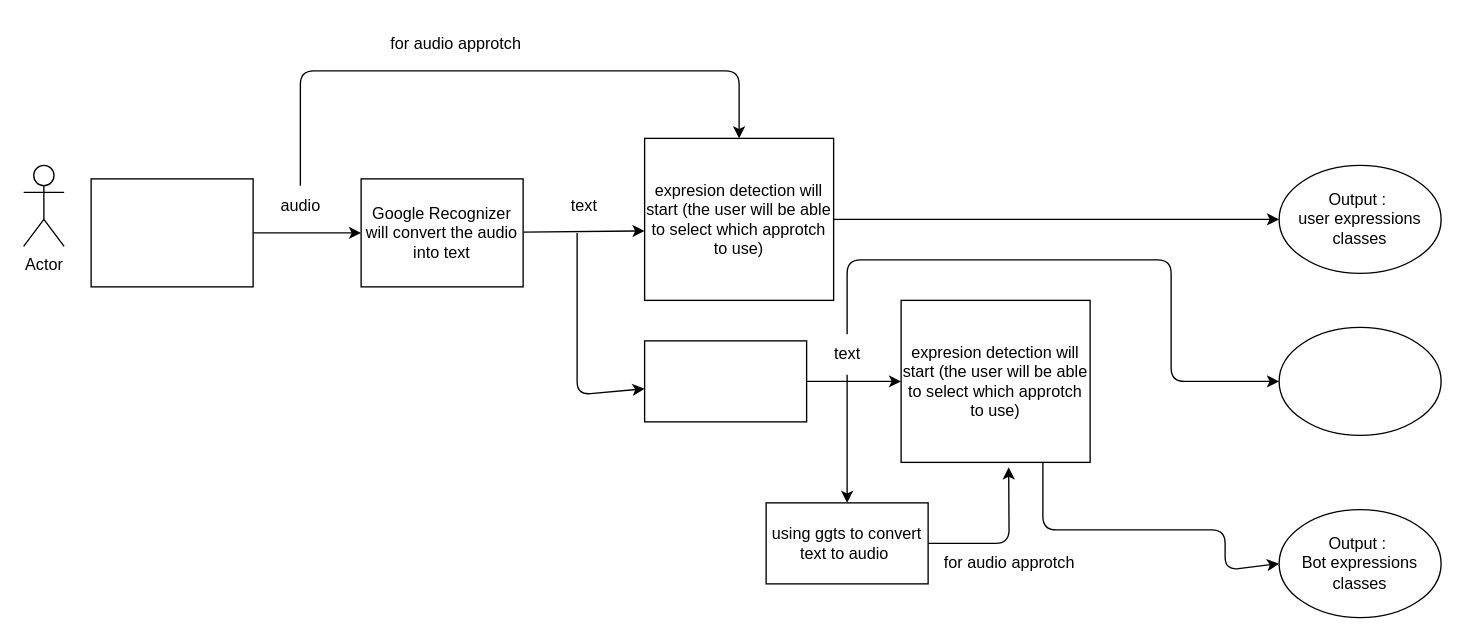
Image size: 1465x641. Some labels were removed from this diagram. The shapes that lost their labels are listed below. From the top down, each one's centre as x and y in pixels, then its label:
the point at 171,232: user clicking on recording button
the point at 725,381: user text query will be fet to llm model for it's to response
the point at 1359,380: Output: ppttsx3 for outputing the llm response as audio
